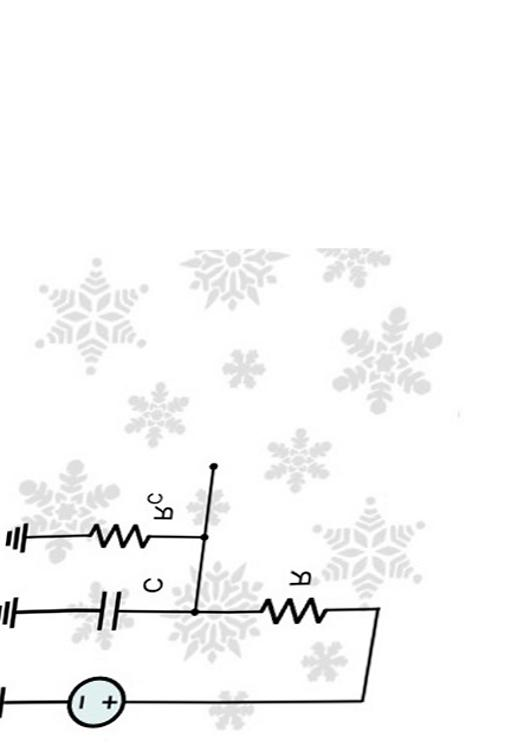Battery: (48, 656, 136, 739)
